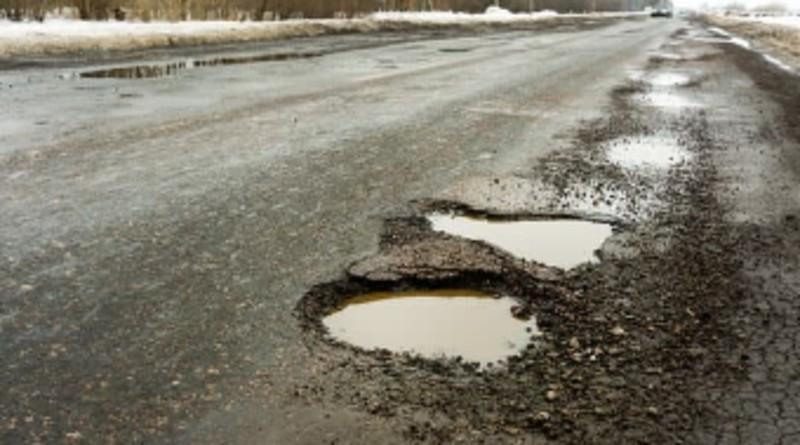Pothole: (294, 265, 550, 389), (418, 179, 653, 274), (69, 24, 367, 92), (613, 129, 693, 176), (608, 85, 701, 119), (637, 60, 693, 90)
